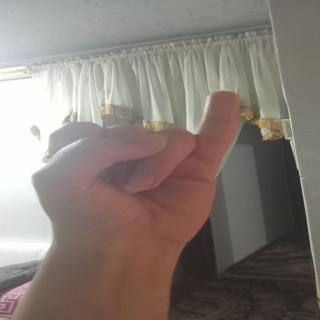MEEM: (28, 84, 280, 222)
